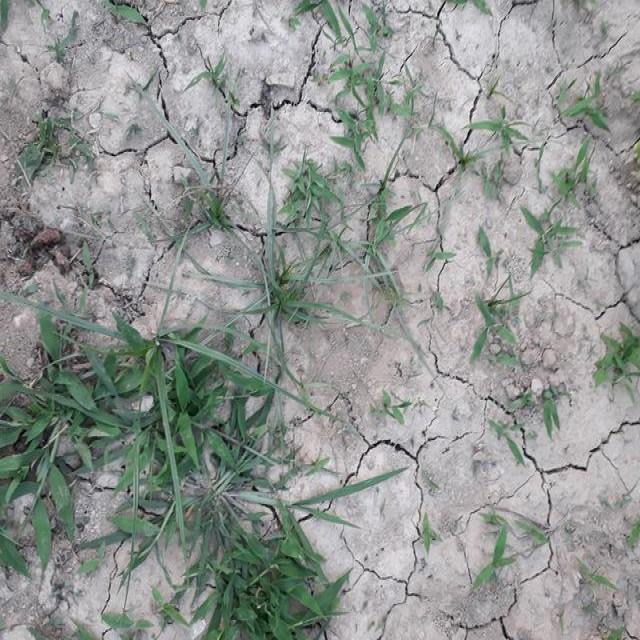weed: (5, 302, 330, 640)
